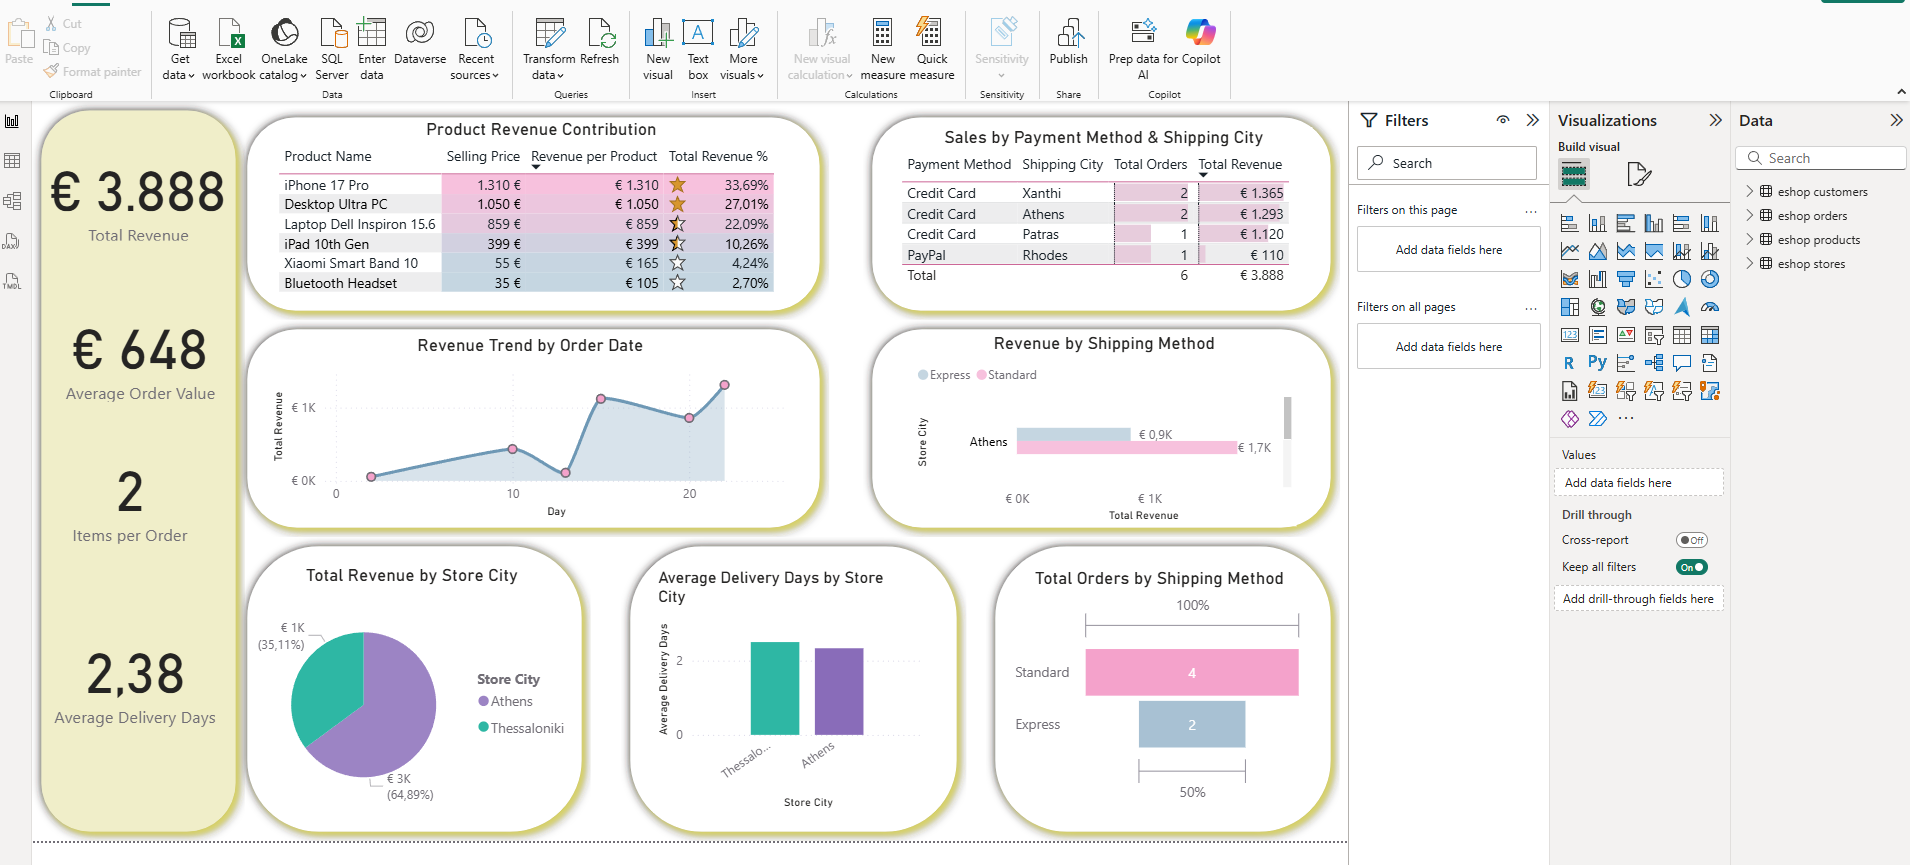

Layout of this report page (visuals, bound fields, positions):
{"tool":"powerbi","page":{"name":"Page 1","canvas":[1280,720],"ordinal":0},"visuals":[{"type":"shape","box":[927.9,424.1,344.3,295.7],"z":0},{"type":"shape","box":[808.3,213,464,211.1],"z":1000},{"type":"shape","box":[808.3,6.8,464,206.2],"z":2000},{"type":"shape","box":[200.4,6.8,574.8,206.2],"z":3000},{"type":"shape","box":[200.4,213,574.8,211.1],"z":4000},{"type":"shape","box":[200.4,424.1,343.3,295.7],"z":5000},{"type":"shape","box":[572.9,424.1,335.6,295.7],"z":6000},{"type":"shape","box":[0,0,207.2,719.8],"z":7000},{"type":"card","fields":{"Values":["eshop orders.Total Revenue"]},"box":[0,42.8,207.2,98.2],"z":8000},{"type":"card","fields":{"Values":["eshop orders.Average Order Value"]},"box":[10.7,193.6,189.7,104.1],"z":9000},{"type":"lineChart","title":"Revenue Trend by Order Date","fields":{"Category":["eshop orders.Order Date.Variation.Date Hierarchy.Day"],"Y":["eshop orders.Total Revenue"]},"box":[229.5,227.6,510.6,181.9],"z":10000},{"type":"card","fields":{"Values":["eshop orders.Items per Order"]},"box":[29.2,330.7,132.3,105],"z":11000},{"type":"card","fields":{"Values":["eshop orders.Avg Delivery Days"]},"box":[0,506.7,200.4,107],"z":12000},{"type":"clusteredColumnChart","fields":{"Category":["eshop stores.Store City"],"Y":["eshop orders.Avg Delivery Days"]},"box":[604,454.2,268.4,238.3],"z":13000},{"type":"clusteredBarChart","title":"Revenue by Shipping Method","fields":{"Category":["eshop stores.Store City"],"Y":["eshop orders.Total Revenue"],"Series":["eshop orders.Shipping Method"]},"box":[855.9,226,374,188],"z":14000},{"type":"tableEx","title":"Sales by Payment Method & Shipping City","fields":{"Values":["eshop orders.Payment Method","eshop orders.Shipping City","eshop orders.Total Orders","eshop orders.Total Revenue"]},"box":[840.4,25.3,404.6,168.3],"z":15000},{"type":"pieChart","fields":{"Category":["eshop orders.Store City"],"Y":["eshop orders.Total Revenue"]},"box":[207.2,451.3,324.9,250.9],"z":16000},{"type":"tableEx","title":"Product Revenue Contribution","fields":{"Values":["eshop orders.Product Name","eshop orders.Selling Price ","eshop orders.Revenue per Product","eshop orders.Total Revenue"]},"box":[234.4,17.5,522.3,184.8],"z":17000},{"type":"funnel","fields":{"Category":["eshop orders.Shipping Method","eshop orders.Store City"],"Y":["eshop orders.Total Orders"]},"box":[951.2,454.2,290.8,234.4],"z":18000}]}

Visuals, with their boxes on the page's 1280x720 design canvas (x1, y1, x2, y2). These are canvas units, not pixel positions in the 1910x865 screenshot, which may show the page scaled, cropped or inside an application window:
shape: BBox(928, 424, 1272, 720)
shape: BBox(808, 213, 1272, 424)
shape: BBox(808, 7, 1272, 213)
shape: BBox(200, 7, 775, 213)
shape: BBox(200, 213, 775, 424)
shape: BBox(200, 424, 544, 720)
shape: BBox(573, 424, 908, 720)
shape: BBox(0, 0, 207, 720)
card - eshop orders.Total Revenue: BBox(0, 43, 207, 141)
card - eshop orders.Average Order Value: BBox(11, 194, 200, 298)
"Revenue Trend by Order Date" lineChart: BBox(230, 228, 740, 410)
card - eshop orders.Items per Order: BBox(29, 331, 162, 436)
card - eshop orders.Avg Delivery Days: BBox(0, 507, 200, 614)
clusteredColumnChart - eshop stores.Store City x eshop orders.Avg Delivery Days: BBox(604, 454, 872, 692)
"Revenue by Shipping Method" clusteredBarChart: BBox(856, 226, 1230, 414)
"Sales by Payment Method & Shipping City" tableEx: BBox(840, 25, 1245, 194)
pieChart - eshop orders.Store City x eshop orders.Total Revenue: BBox(207, 451, 532, 702)
"Product Revenue Contribution" tableEx: BBox(234, 18, 757, 202)
funnel - eshop orders.Shipping Method x eshop orders.Store City: BBox(951, 454, 1242, 689)
